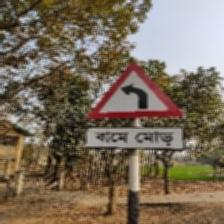Left-Turn: (84, 61, 187, 152)
